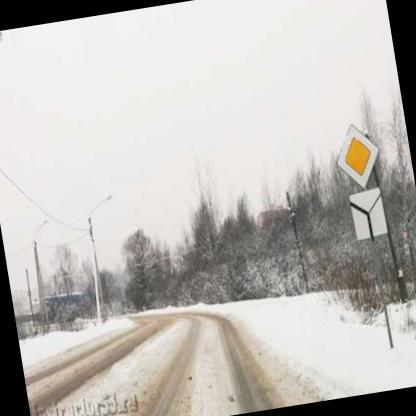road_sign: (339, 125, 379, 188), (351, 189, 387, 240)
